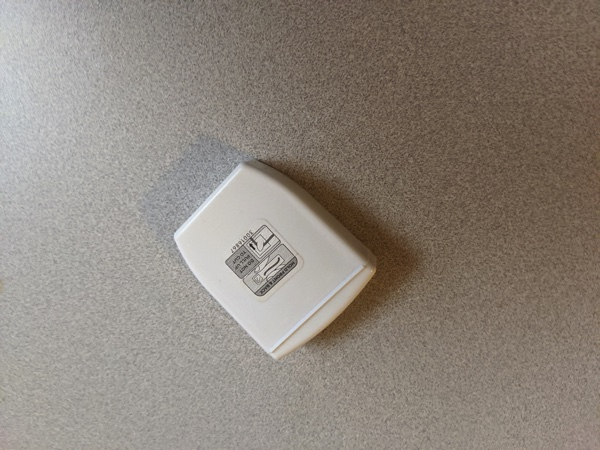plastic: (159, 144, 400, 377)
